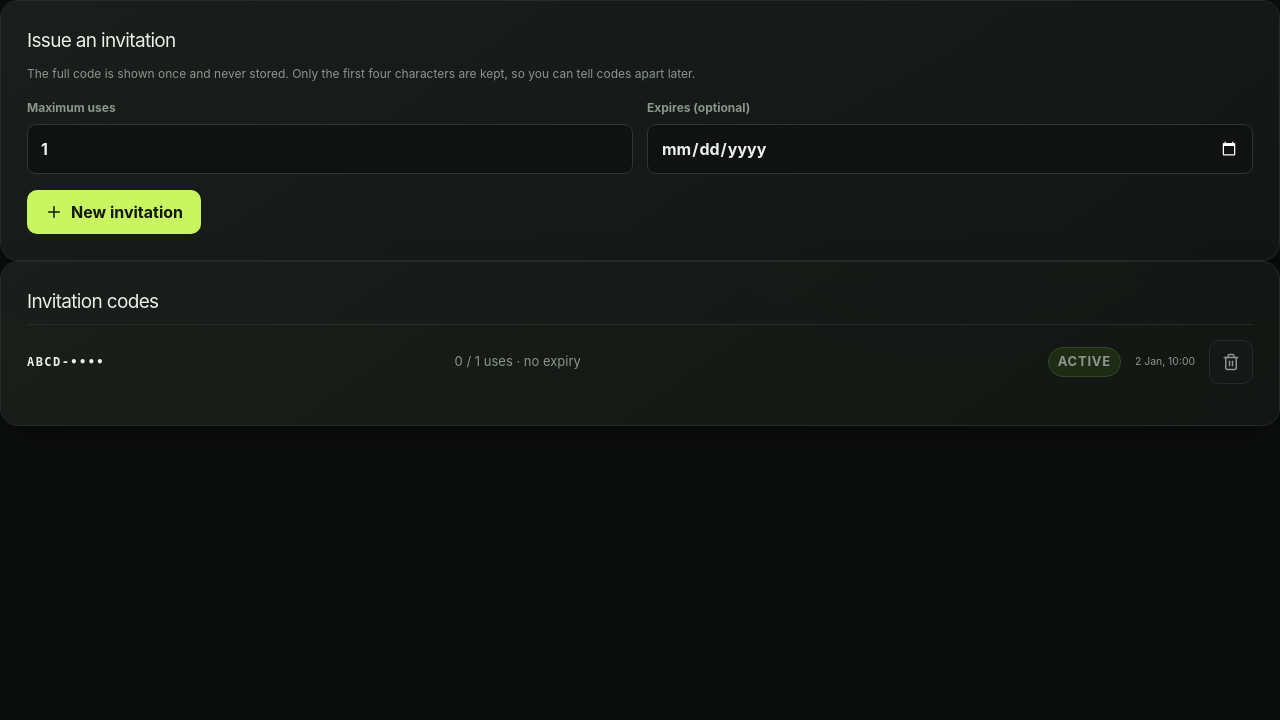
admin invitations › shows a new code once and only stores its prefix
What coordinates should you click on to do the following:
click the button "New invitation"
I would click on:
 (114, 212)
Its box is top-left (27, 190), bottom-right (201, 234).
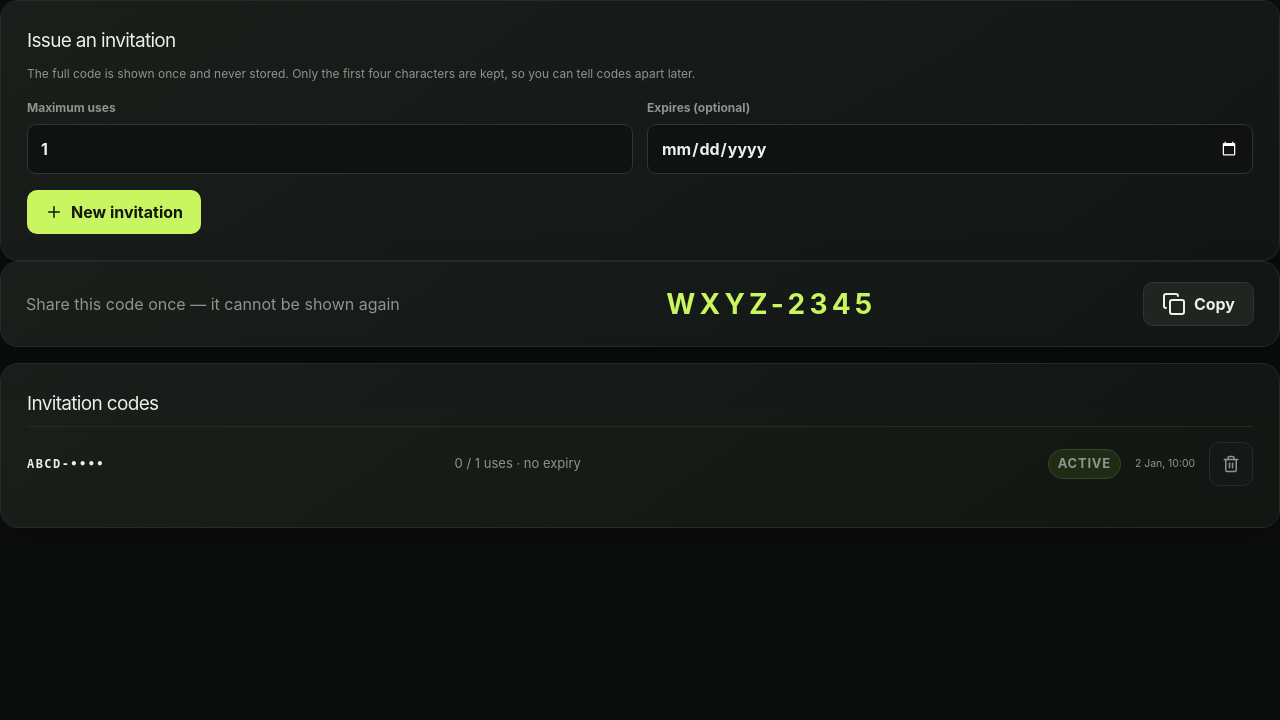
Now the text "WXYZ-2345" is shown, box top-left (666, 283), bottom-right (876, 325)
Now the text "Share this code once — it cannot be shown again" is shown, box top-left (26, 292), bottom-right (400, 316)
